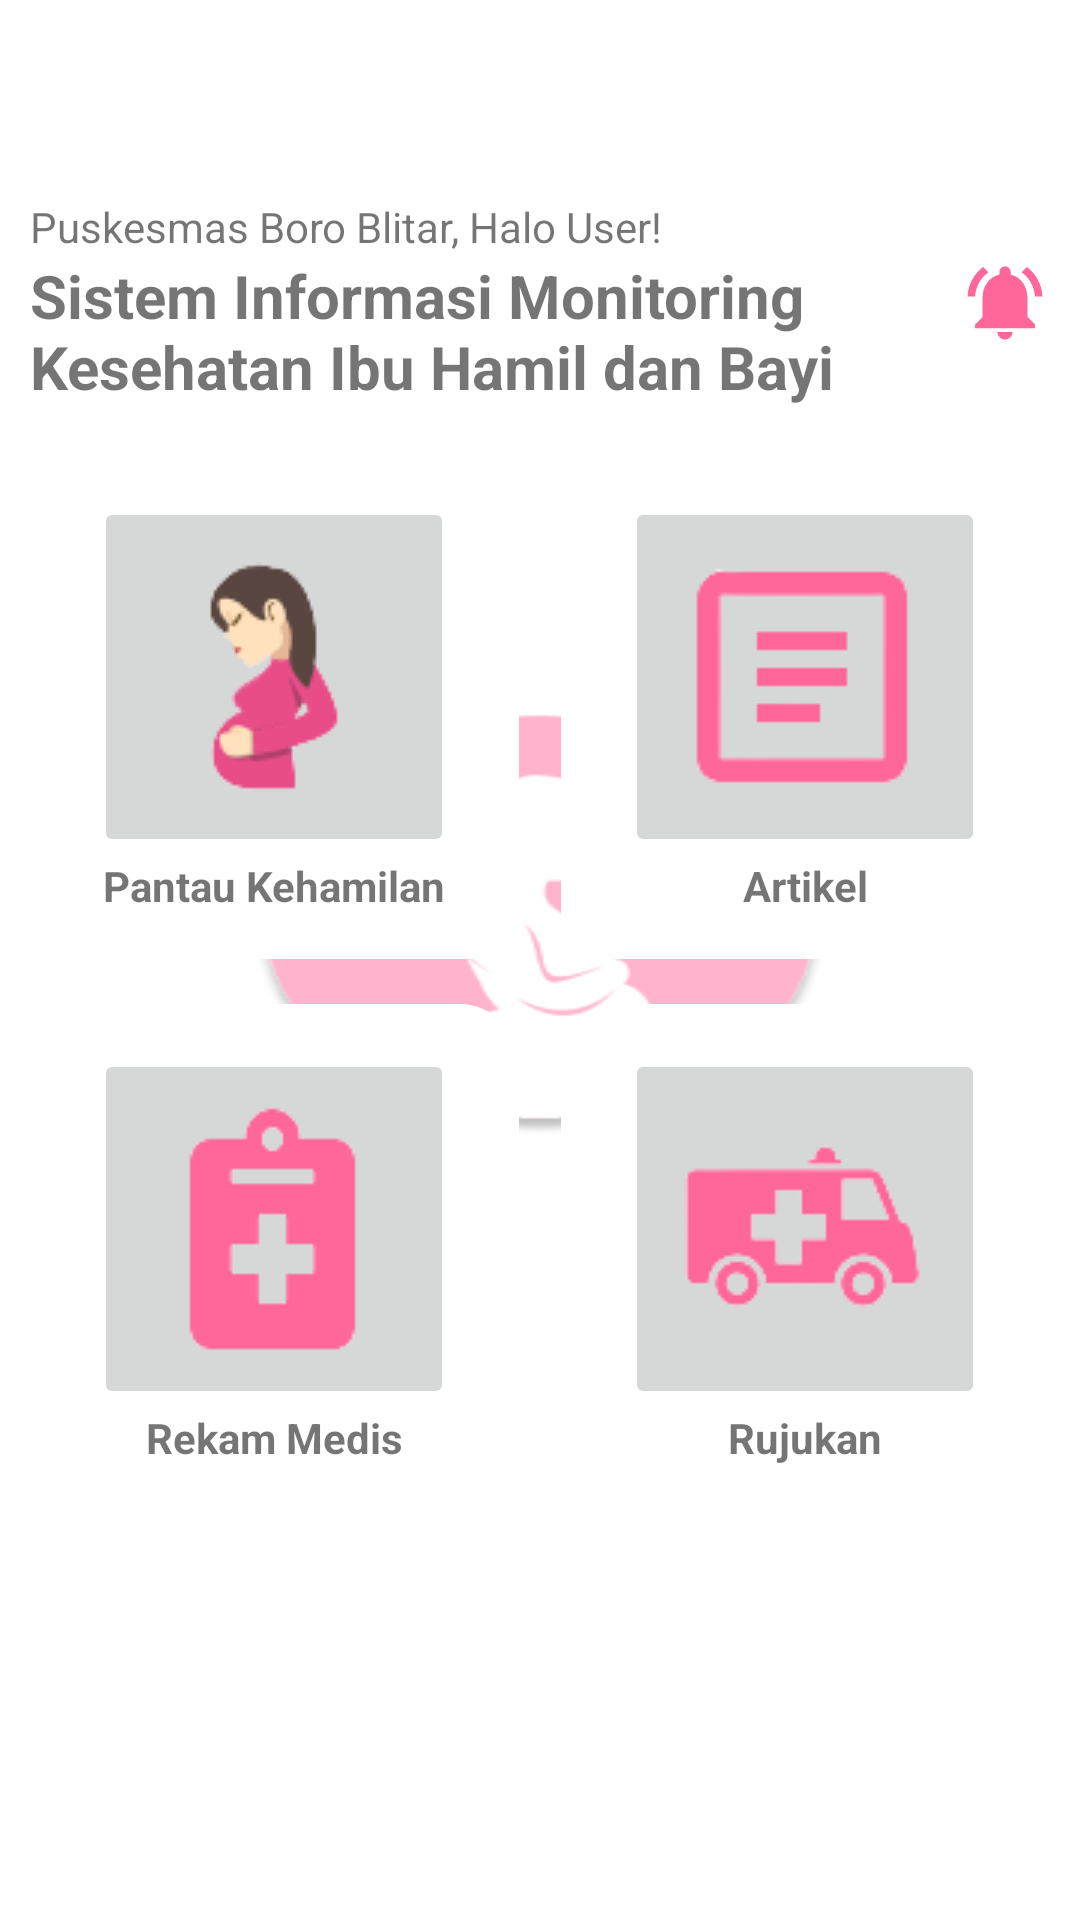

Point at icon controls on the screen. Image size 1080*1920, points as [x,y].
ambulance: [805,1229]
bel: [1005,303]
